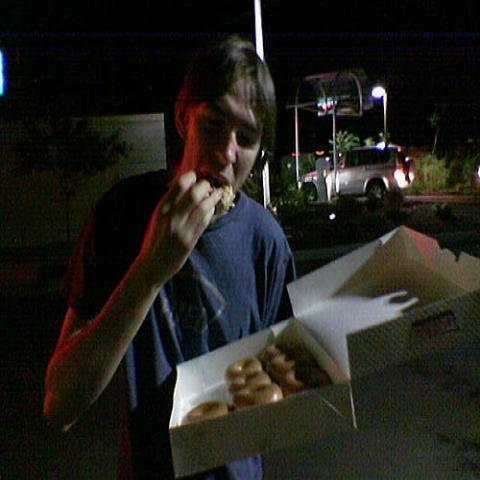car: (301, 145, 417, 212)
